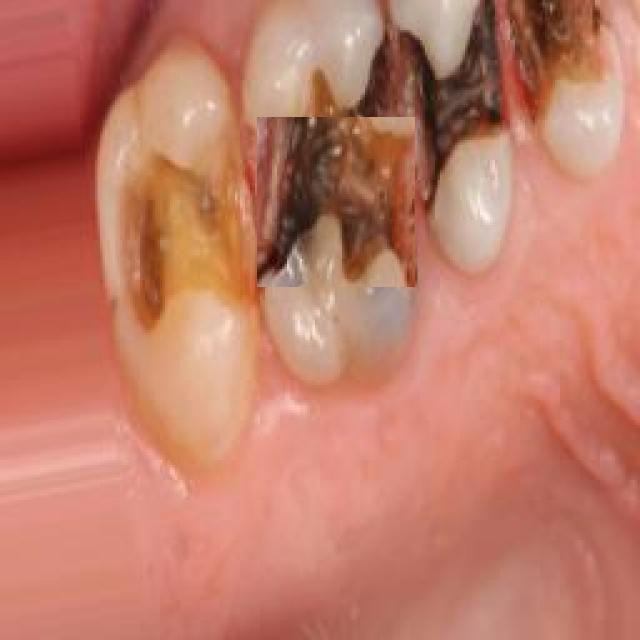caries: (257, 118, 415, 288), (150, 160, 258, 315), (403, 40, 505, 172), (507, 2, 615, 108)
